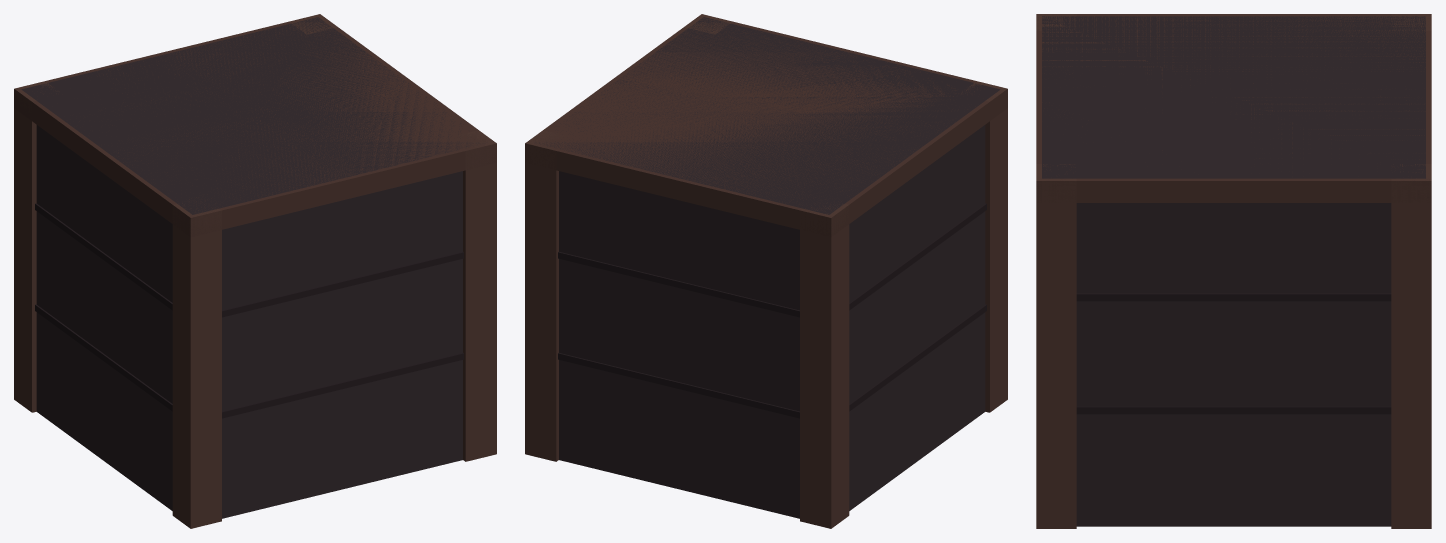
File: foundation_4m.glb
The picture shows the model from 3 angles, left to right: view 1: azimuth 30°, elevation 25°; view 2: azimuth 150°, elevation 25°; view 3: azimuth 270°, elevation 25°; orthographic projection. The views are drawn at different scales.
Visible parts, largest first — view 1: foundation_4m; view 2: foundation_4m; view 3: foundation_4m.
Part boxes in pixels (x1,y1,x2,y2): foundation_4m: (14, 14, 496, 528); foundation_4m: (525, 14, 1007, 528); foundation_4m: (1036, 14, 1431, 528).
Bounding box in the file's own units: 4.12 × 4 × 4.12.
